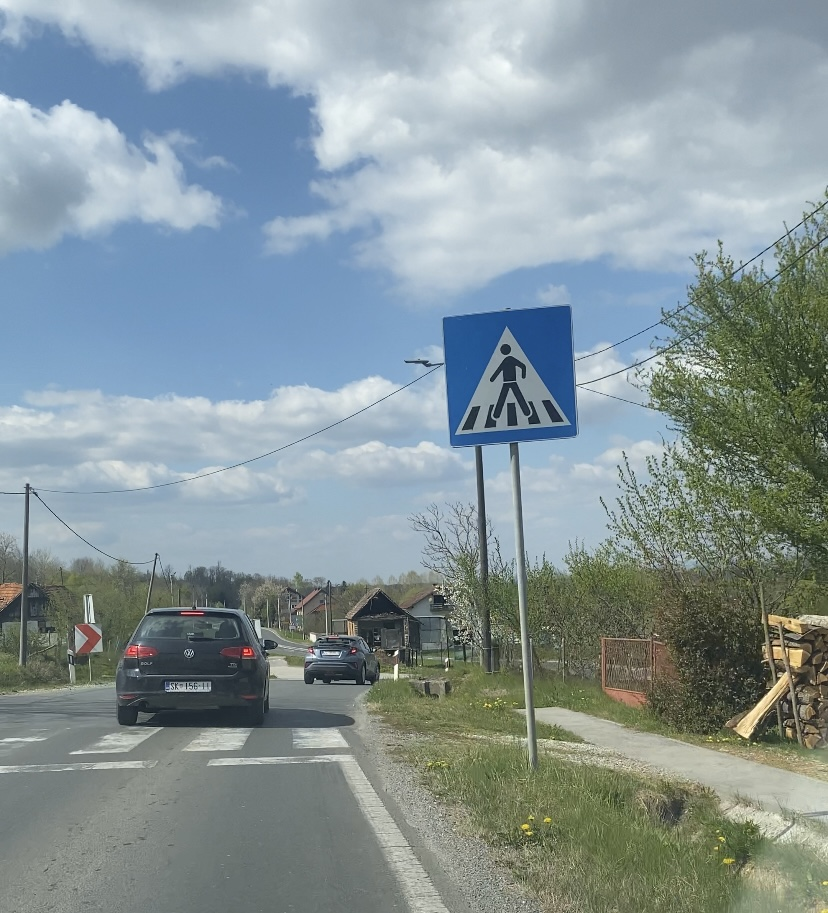Pješački prijelaz: (442, 304, 580, 448)
